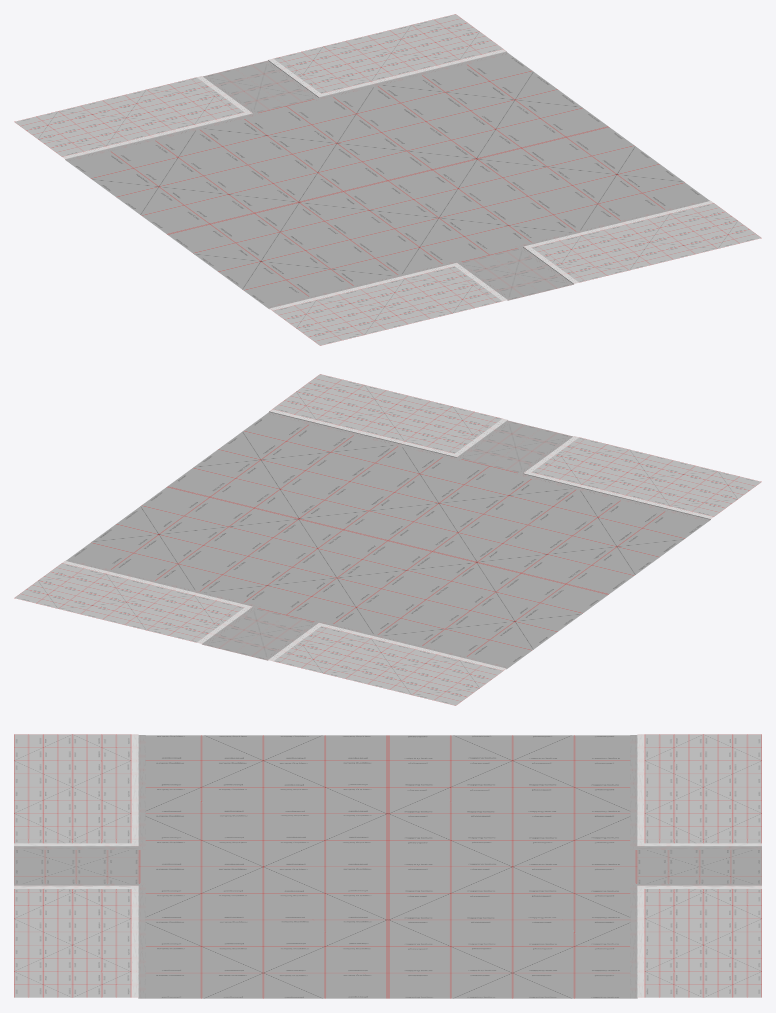
Rendered from B_cross_d.FBX.
3 views of the same model, one above another, from view 1: azimuth 30°, elevation 25°; view 2: azimuth 150°, elevation 25°; view 3: azimuth 270°, elevation 25° (orthographic). The views are drawn at different scales.
Visible parts, largest first — view 1: b_cross_d; view 2: b_cross_d; view 3: b_cross_d.
Part boxes in pixels (<box>): b_cross_d: <box>14,14,761,345</box>; b_cross_d: <box>14,374,761,705</box>; b_cross_d: <box>14,734,761,998</box>.
Bounding box in the file's own units: 100 × 120 × 0.1385.
